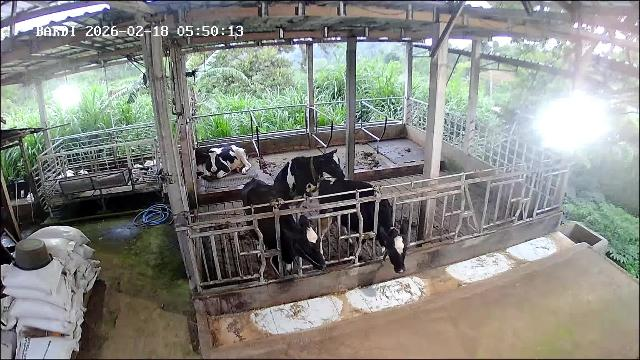mounting: (273, 148, 345, 218)
